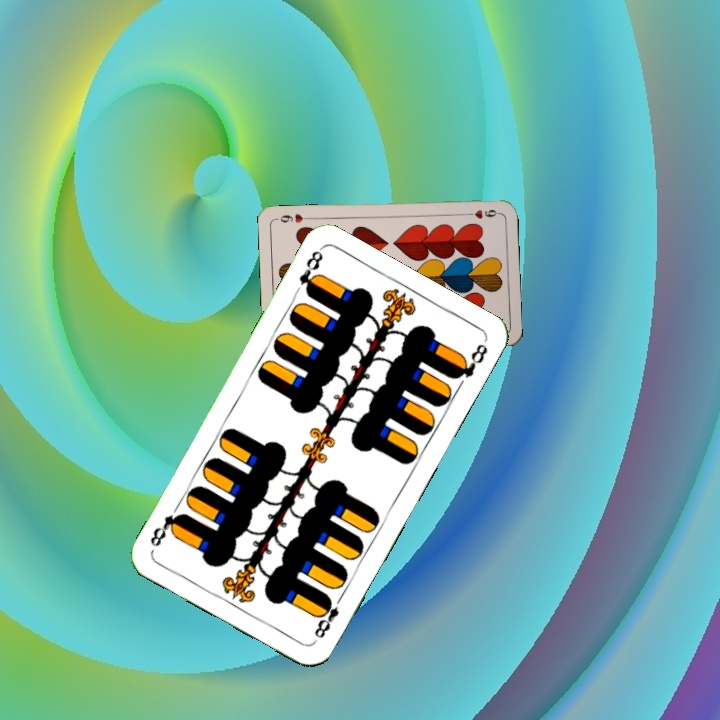E8: (310, 590, 346, 641), (295, 245, 326, 299)
H9: (461, 205, 501, 221)
